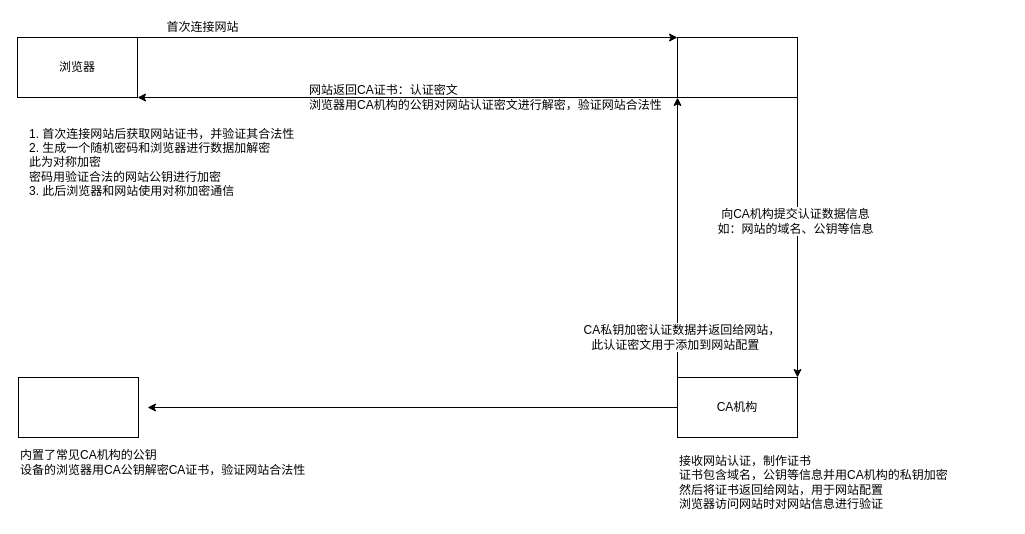
Some shapes in this 1025 by 534 pixel diagram are drawn without their labels. The box of each missing label's shape, as (x1, y1, x2, y2) in pixels:
网站/ 服务器: (676, 36, 798, 98)
计算机设备: (18, 376, 138, 438)
